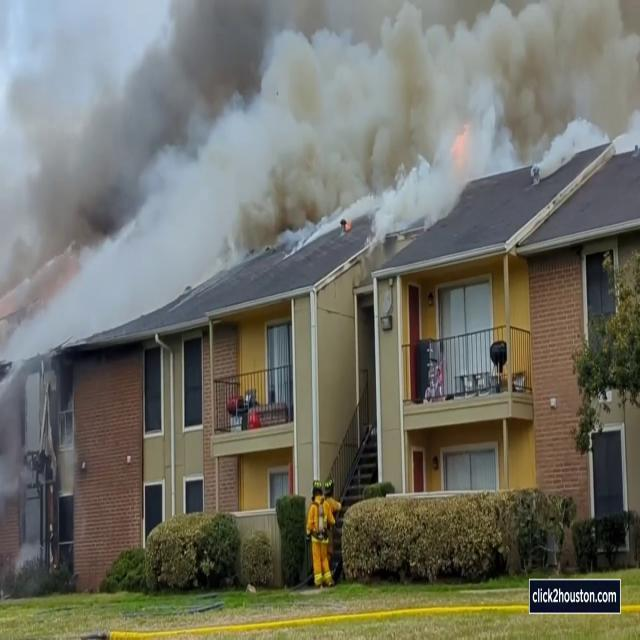Smoke: (4, 1, 622, 260)
